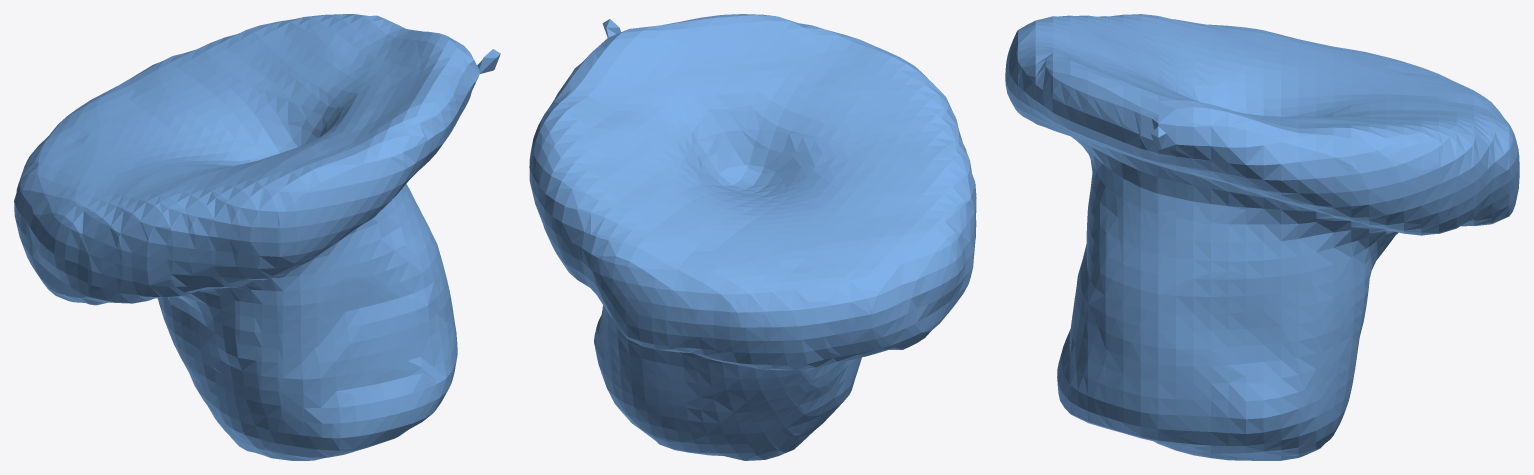
File: water_0012.glb
3 renders of one model, left to right at view 1: azimuth 30°, elevation 25°; view 2: azimuth 150°, elevation 25°; view 3: azimuth 270°, elevation 25°, orthographic. The views are drawn at different scales.
Visible parts, largest first — view 1: Water_0012; view 2: Water_0012; view 3: Water_0012.
Part boxes in pixels (x1,y1,x2,y2): Water_0012: (14, 14, 500, 460); Water_0012: (529, 14, 976, 460); Water_0012: (1005, 14, 1519, 460).
Bounding box in the file's own units: 1.71 × 1.52 × 1.71.
